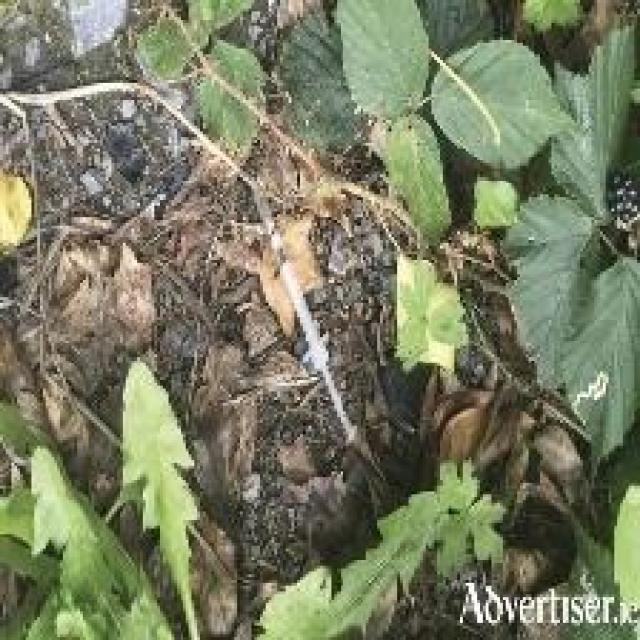syringe: (246, 172, 389, 470)
